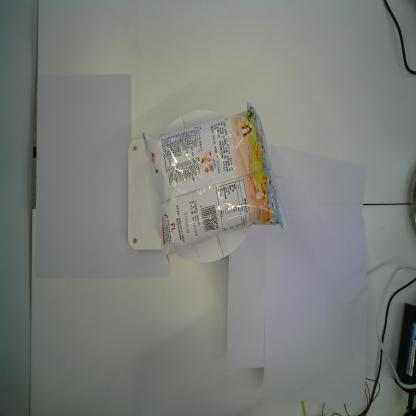Puffed Food: (138, 98, 285, 264)
